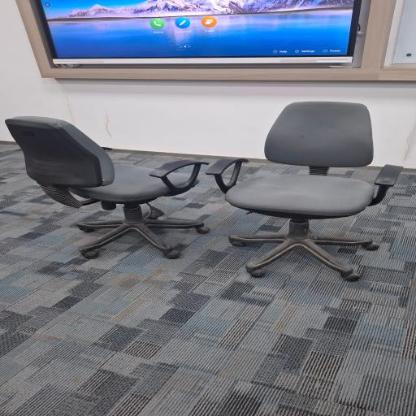chair: (209, 93, 406, 290), (0, 103, 213, 262)
